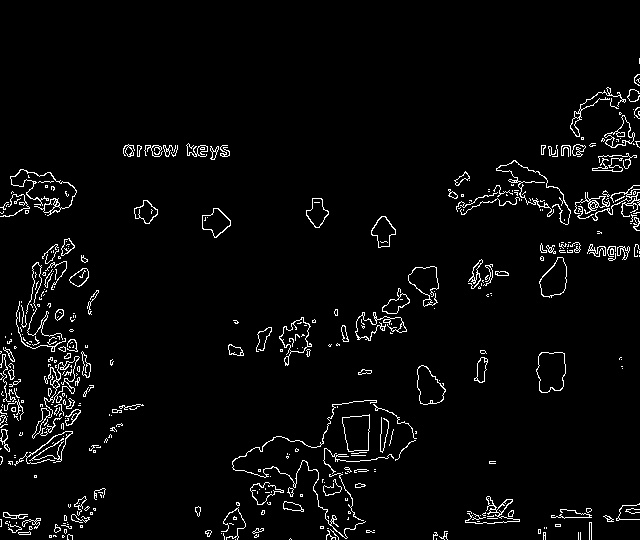rune_box: (56, 172, 478, 276)
